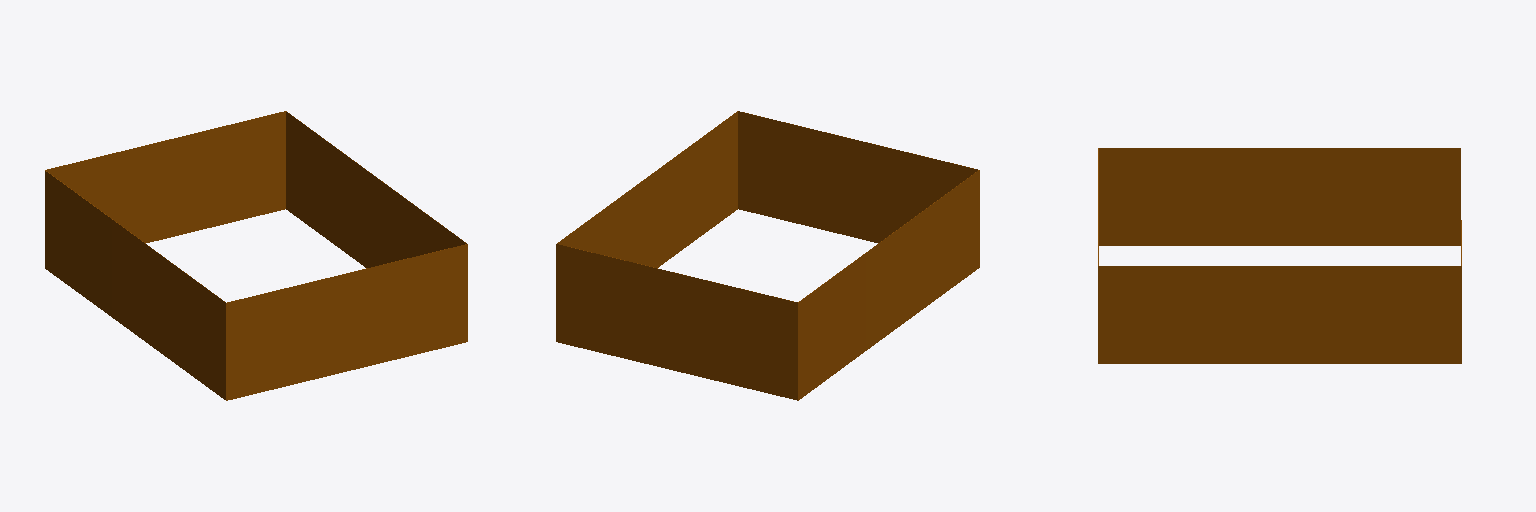
The model's file is with_textures.obj.
The picture shows the model from 3 angles: view 1: azimuth 30°, elevation 25°; view 2: azimuth 150°, elevation 25°; view 3: azimuth 270°, elevation 25°; orthographic projection.
Parts seen in each view (by area): view 1: mesh4.002, mesh9.002, mesh8.002, mesh0.002, mesh1.002; view 2: mesh2.002, mesh7.002, mesh8.002, mesh0.002, mesh1.002; view 3: mesh3.002, mesh10.002.
Boxes of the visible parts, <box> form: mesh4.002: <box>226,244,467,400</box>; mesh9.002: <box>46,111,285,242</box>; mesh8.002: <box>286,112,466,267</box>; mesh0.002: <box>112,220,225,399</box>; mesh1.002: <box>45,171,111,316</box>; mesh2.002: <box>556,244,797,400</box>; mesh7.002: <box>738,111,977,242</box>; mesh8.002: <box>557,112,737,267</box>; mesh0.002: <box>866,170,979,350</box>; mesh1.002: <box>798,253,865,400</box>; mesh3.002: <box>1098,266,1461,363</box>; mesh10.002: <box>1099,148,1460,245</box>.
Bounding box in the file's own units: 10.31 × 4 × 13.43.